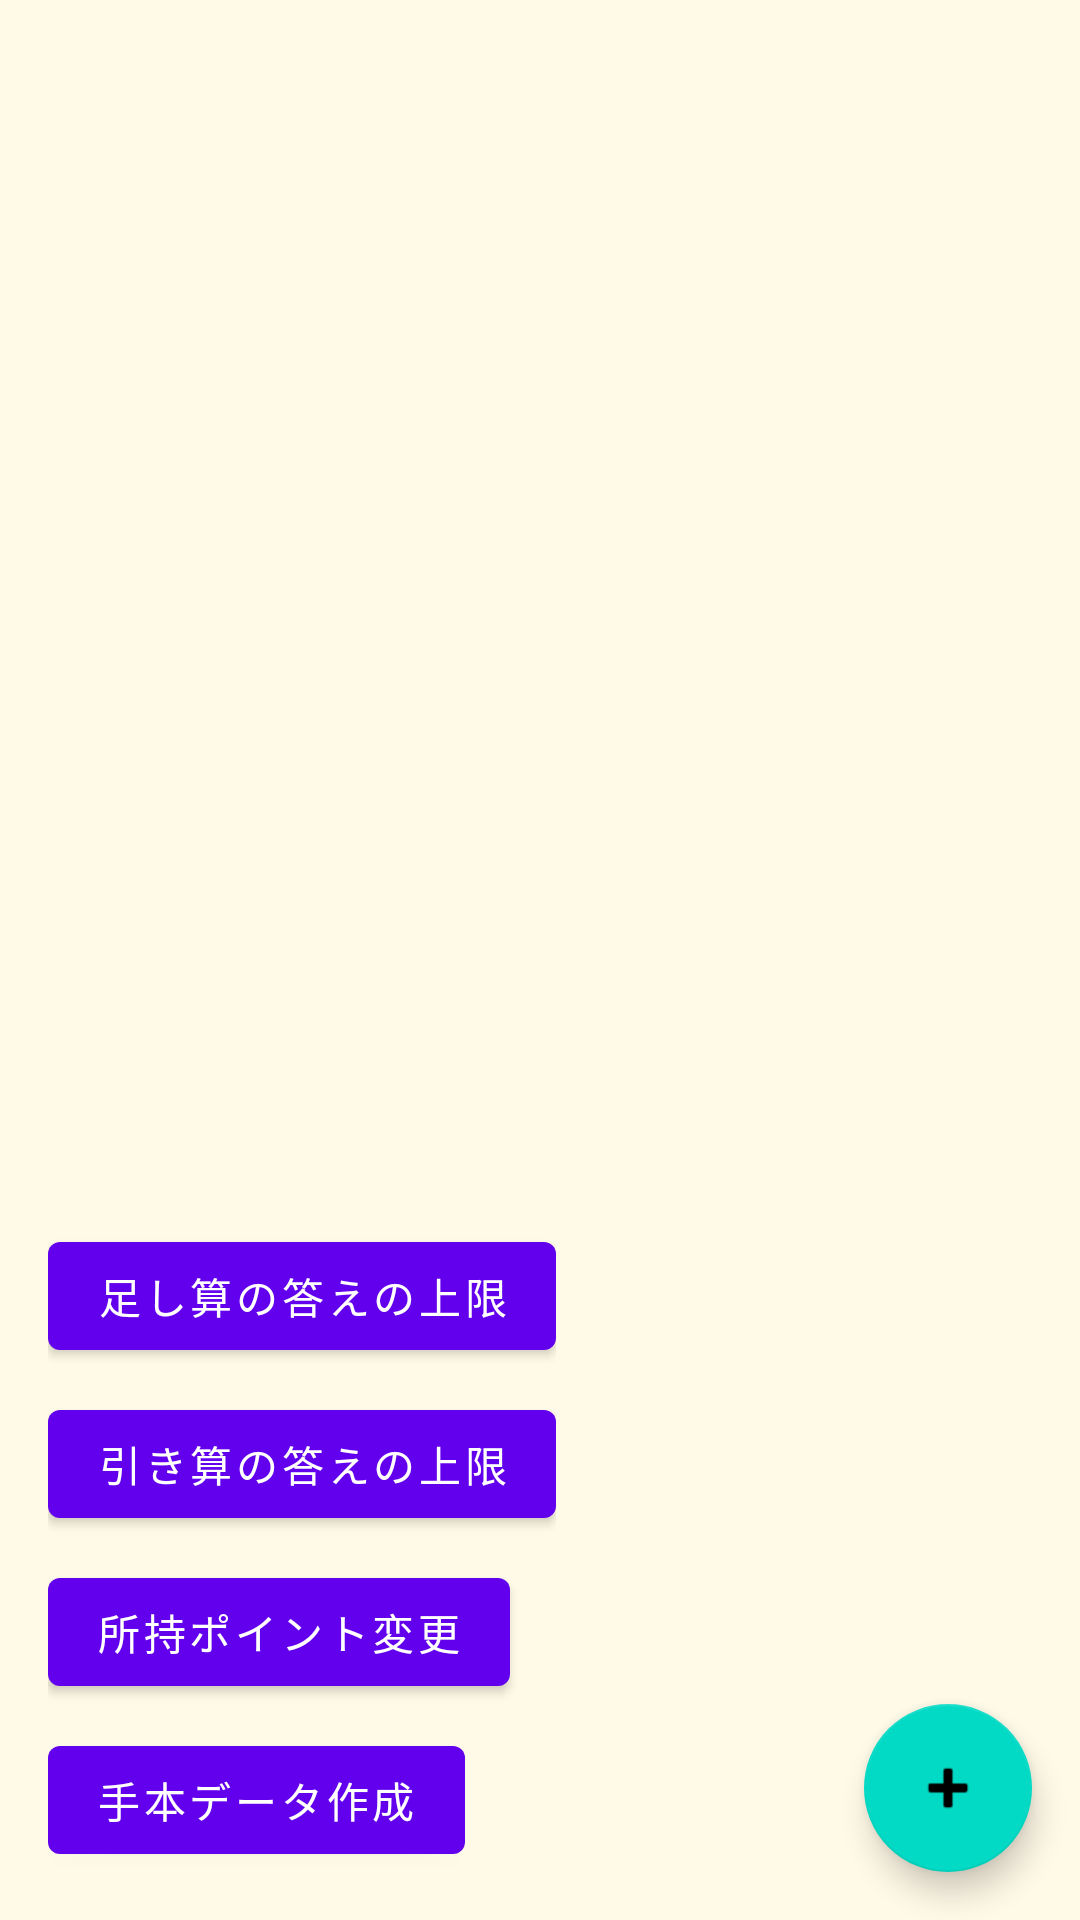

Named icons in this screenshot (1080 × 1920) and their bounding boxes, {"x1": x1, "y1": y1, "x2": x2, "y2": y2}:
問題を追加: {"x1": 864, "y1": 1704, "x2": 1032, "y2": 1872}
